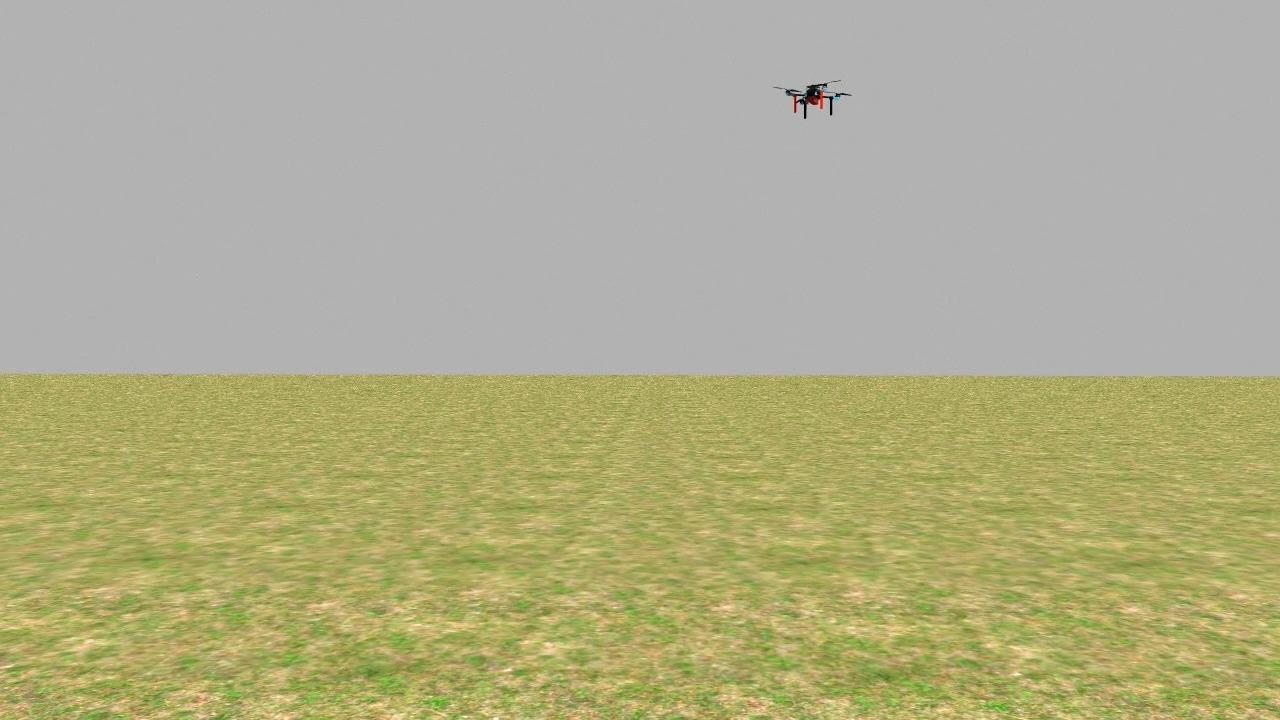UAV: (775, 68, 851, 127)
